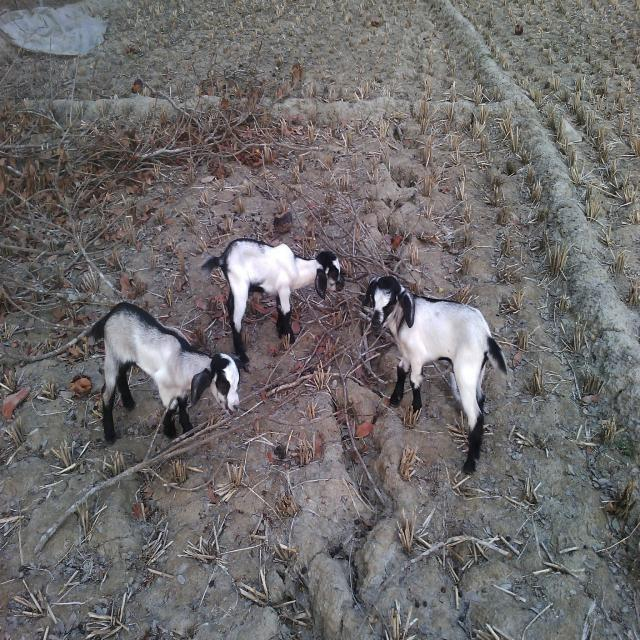Goat: (362, 274, 507, 475), (87, 301, 242, 444), (200, 237, 345, 371)
